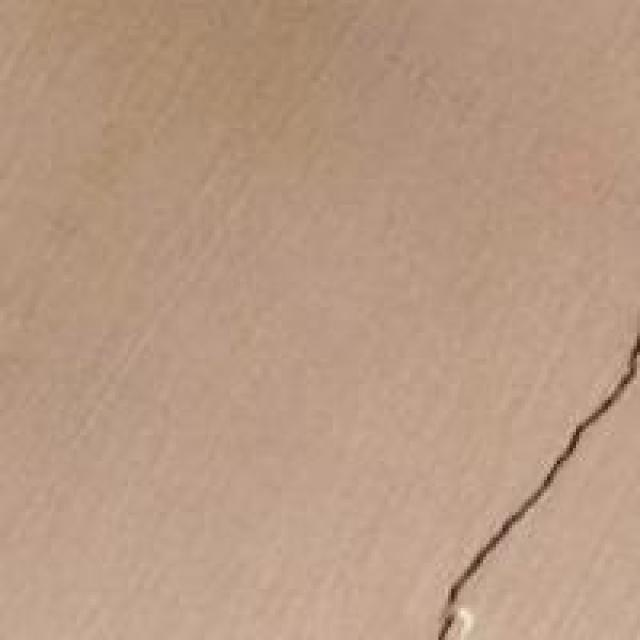Crack: (400, 329, 637, 636)
